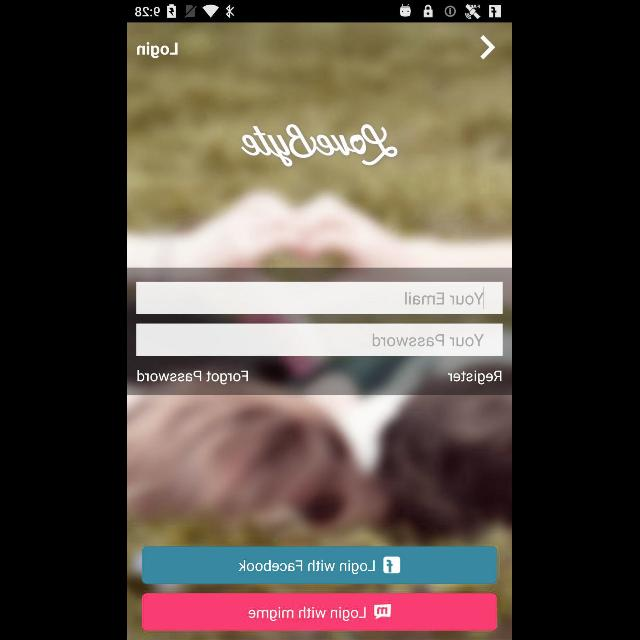backgroundimage: (128, 22, 512, 640)
icon: (480, 36, 496, 60)
image: (242, 124, 398, 168)
input: (136, 282, 504, 314), (137, 324, 503, 356)
text: (138, 370, 250, 384), (374, 334, 484, 346), (406, 292, 484, 306), (448, 370, 502, 386), (138, 42, 178, 58)
textbutton: (142, 546, 498, 584), (142, 593, 498, 631)
uppertaskbar: (128, 1, 512, 23)
